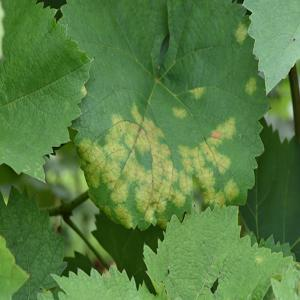Folha: (0, 0, 300, 300)
Fungo: (75, 100, 241, 230), (154, 129, 238, 215), (100, 120, 152, 212), (234, 21, 248, 43), (244, 76, 257, 95), (188, 86, 205, 100), (172, 105, 187, 119), (210, 130, 221, 138), (254, 254, 262, 264), (296, 278, 299, 296), (292, 38, 296, 42), (158, 64, 160, 70), (110, 52, 112, 56)
